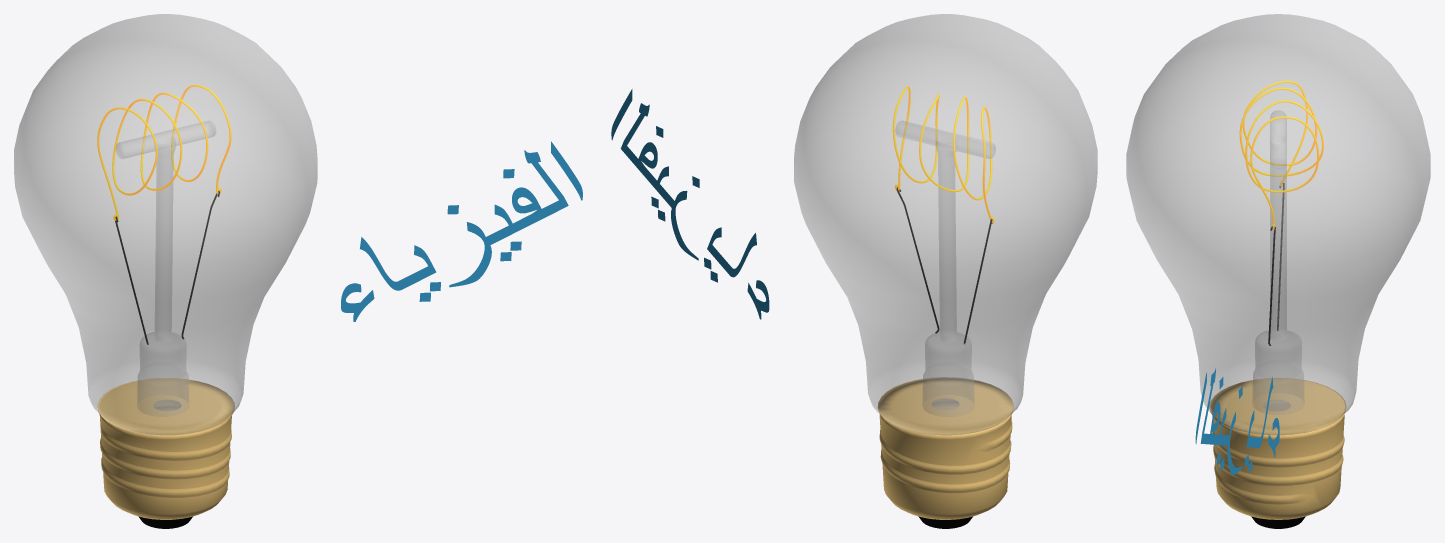
File: title.glb
3 renders of one model, left to right at view 1: azimuth 30°, elevation 25°; view 2: azimuth 150°, elevation 25°; view 3: azimuth 270°, elevation 25°, orthographic.
Parts seen in each view (by area): view 1: Object_3, Object_6, Object_4, Text, Object_5, Object_7; view 2: Object_3, Object_6, Object_4, Text, Object_5, Object_7; view 3: Object_3, Object_6, Object_4, Object_5, Text, Object_7, Object_2.
Boxes of the visible parts, left/top/right/bottom form: Object_3: left=14, top=14, right=317, bottom=434; Object_6: left=98, top=378, right=234, bottom=519; Object_4: left=116, top=120, right=215, bottom=416; Text: left=341, top=141, right=582, bottom=321; Object_5: left=97, top=84, right=231, bottom=220; Object_7: left=115, top=191, right=219, bottom=344; Object_3: left=794, top=14, right=1097, bottom=434; Object_6: left=878, top=377, right=1013, bottom=519; Object_4: left=895, top=120, right=995, bottom=416; Text: left=611, top=89, right=769, bottom=319; Object_5: left=892, top=86, right=994, bottom=222; Object_7: left=896, top=187, right=992, bottom=344; Object_3: left=1126, top=14, right=1430, bottom=434; Object_6: left=1209, top=378, right=1346, bottom=519; Object_4: left=1252, top=110, right=1304, bottom=414; Object_5: left=1239, top=80, right=1323, bottom=229; Text: left=1195, top=368, right=1279, bottom=474; Object_7: left=1268, top=183, right=1284, bottom=345; Object_2: left=1251, top=516, right=1305, bottom=528.
Size of the model in its own units: 9.55 by 8.93 by 4.96.
